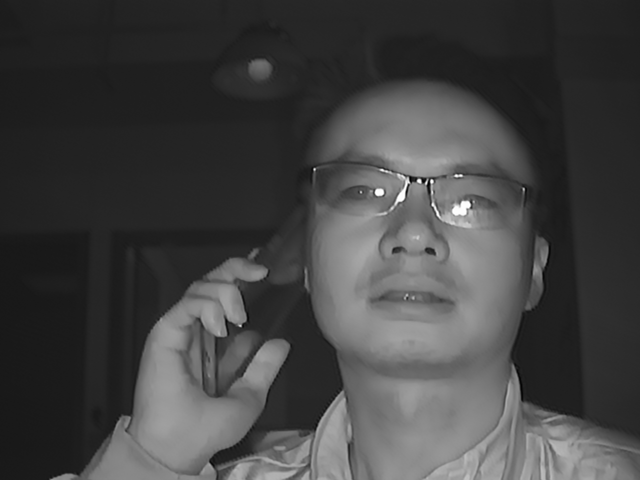hand: (137, 256, 287, 452)
